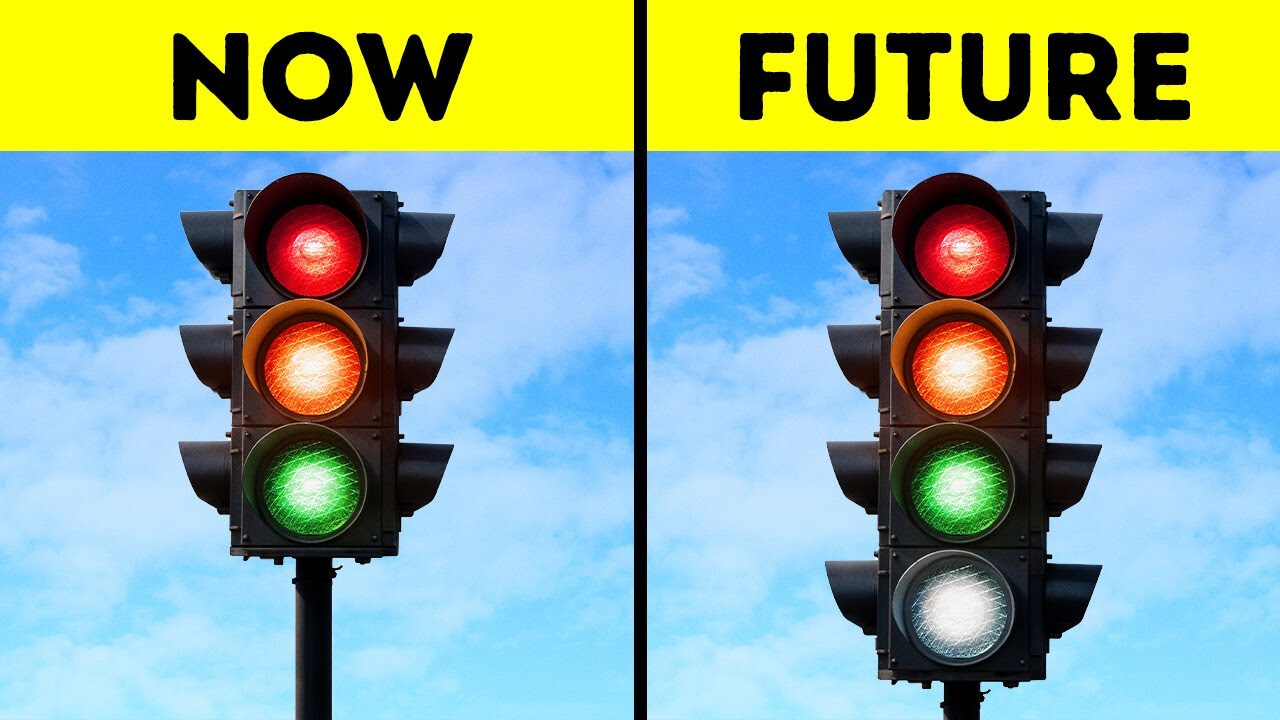TraficLight: (173, 163, 457, 563), (862, 182, 1087, 547)
